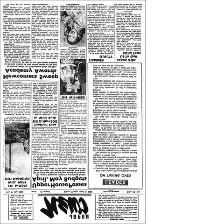news_paper: (0, 0, 146, 224)
